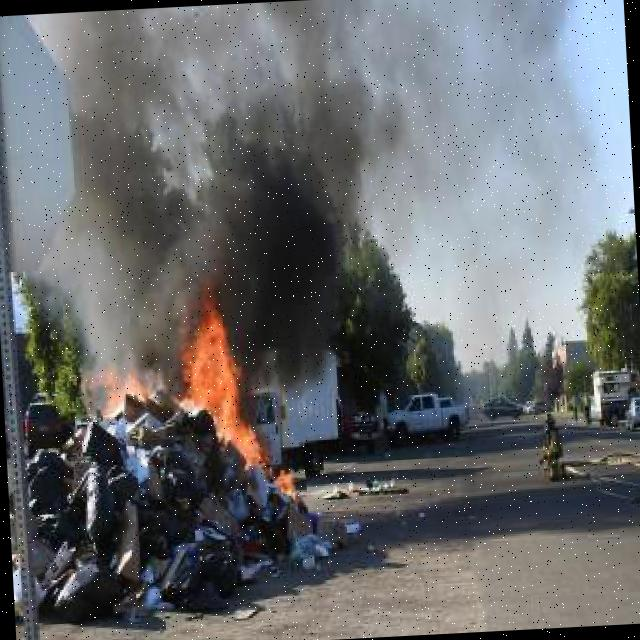fire: (128, 286, 307, 501)
